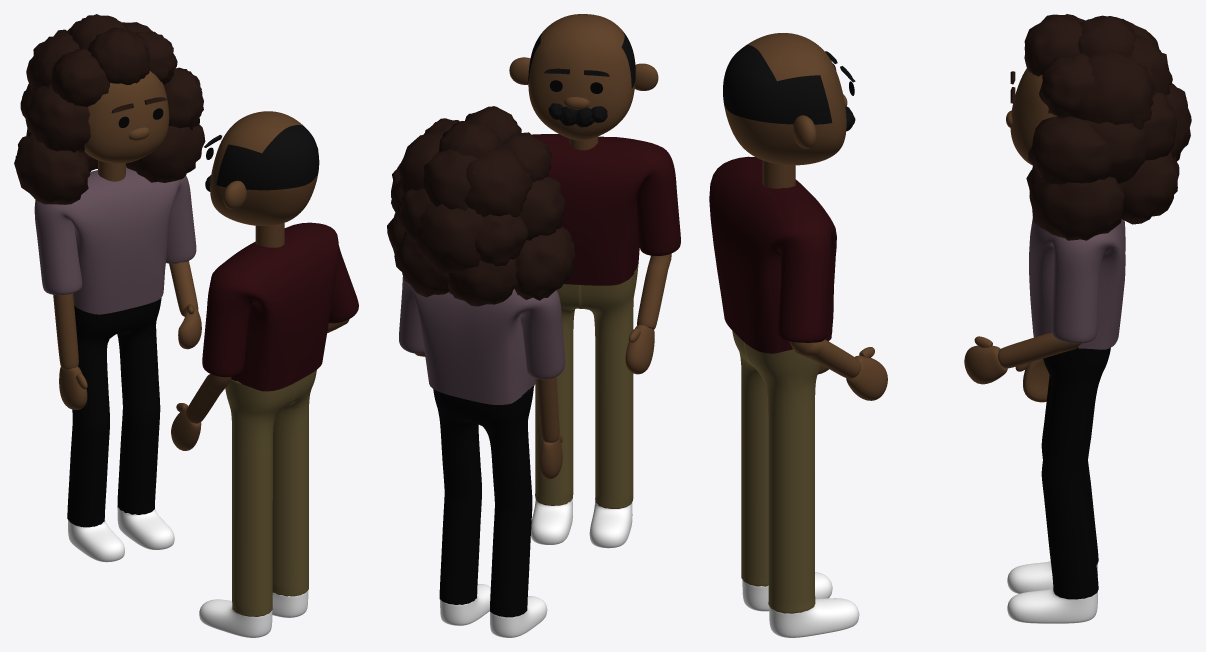
File: lovers.fbx
3 renders of one model, left to right at view 1: azimuth 30°, elevation 25°; view 2: azimuth 150°, elevation 25°; view 3: azimuth 270°, elevation 25°, orthographic. The views are drawn at different scales.
Parts seen in each view (by area): view 1: black-teen-shirt.003, black-girl-shirt, black-teen-pants.003, black-girl-pants, black-teen-head.003, black-girl-head, Cube.035, black-girl-shoes, Cube.042, Cube.036, Cube.032, black-teen-shoes.003 (+12 smaller); view 2: black-girl-pants, black-teen-shirt.003, black-girl-shirt, black-teen-pants.003, black-teen-head.003, Cube.001, Cube.043, Cube.035, black-teen-shoes.003, black-girl-shoes, Cube.038, Cube.040 (+14 smaller); view 3: black-teen-shirt.003, black-teen-pants.003, black-teen-head.003, black-girl-pants, black-girl-shirt, Cube.036, Cube.034, Cube.047, black-girl-shoes, black-teen-shoes.003, Cube.050, Cube.037 (+12 smaller).
Boxes of the visible parts, <box> form: black-teen-shirt.003: <box>202,222,358,391</box>; black-girl-shirt: <box>34,166,196,314</box>; black-teen-pants.003: <box>225,370,316,616</box>; black-girl-pants: <box>67,298,161,527</box>; black-teen-head.003: <box>210,111,319,225</box>; black-girl-head: <box>84,71,169,163</box>; Cube.035: <box>14,132,90,204</box>; black-girl-shoes: <box>68,506,174,562</box>; Cube.042: <box>26,84,90,152</box>; Cube.036: <box>126,124,205,182</box>; Cube.032: <box>87,27,150,84</box>; black-teen-shoes.003: <box>199,590,308,637</box>; black-girl-pants: <box>433,386,533,617</box>; black-teen-shirt.003: <box>532,134,680,285</box>; black-girl-shirt: <box>399,276,565,404</box>; black-teen-pants.003: <box>535,265,638,508</box>; black-teen-head.003: <box>528,14,635,140</box>; Cube.001: <box>415,202,484,273</box>; Cube.043: <box>464,147,532,217</box>; Cube.035: <box>514,226,575,300</box>; black-teen-shoes.003: <box>531,498,632,548</box>; black-girl-shoes: <box>440,584,547,637</box>; Cube.038: <box>446,258,518,306</box>; Cube.040: <box>421,149,476,210</box>; black-teen-shirt.003: <box>709,156,836,353</box>; black-teen-pants.003: <box>732,331,821,613</box>; black-teen-head.003: <box>723,33,846,165</box>; black-girl-pants: <box>1041,347,1110,599</box>; black-girl-shirt: <box>1029,217,1125,349</box>; Cube.036: <box>1026,166,1124,240</box>; Cube.034: <box>1028,116,1112,184</box>; Cube.047: <box>1074,51,1155,129</box>; black-girl-shoes: <box>1007,561,1097,623</box>; black-teen-shoes.003: <box>742,572,859,637</box>; Cube.050: <box>1121,152,1179,224</box>; Cube.037: <box>1039,53,1094,118</box>.
Size of the model in its own units: 263 by 596 by 446.
